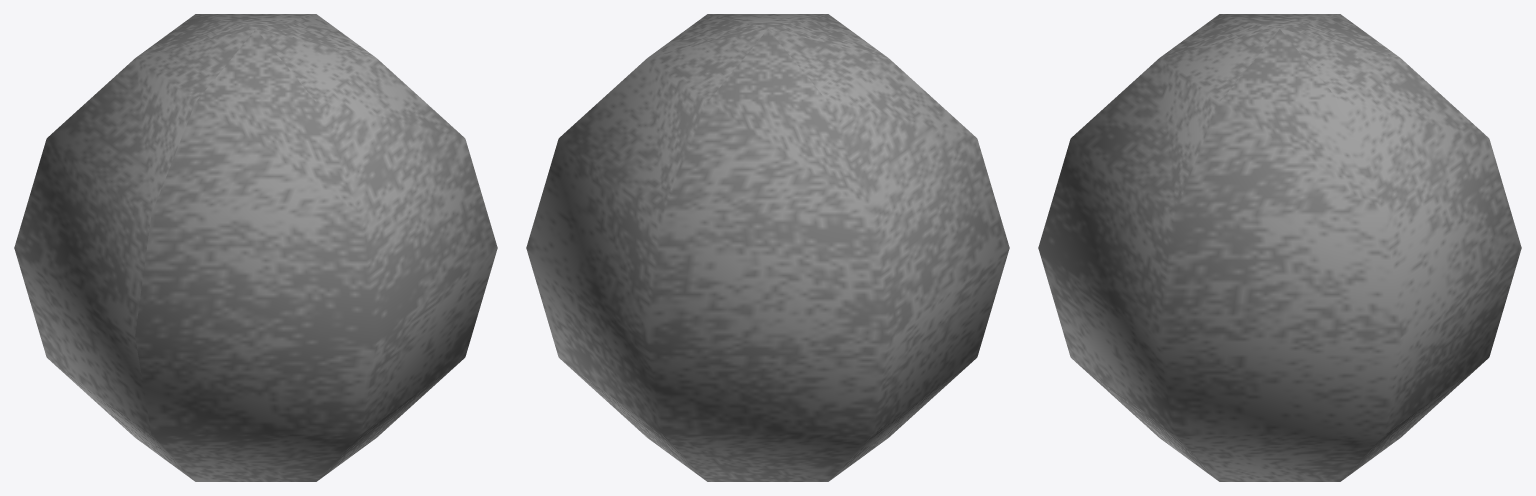
File: Pellet.fbx
3 views of the same model, side by side, from view 1: azimuth 30°, elevation 25°; view 2: azimuth 150°, elevation 25°; view 3: azimuth 270°, elevation 25° (orthographic).
Visible parts, largest first — view 1: Pellet; view 2: Pellet; view 3: Pellet.
Boxes of the visible parts, x1=… form: Pellet: x1=14, y1=14, x2=497, y2=481; Pellet: x1=526, y1=14, x2=1009, y2=481; Pellet: x1=1038, y1=14, x2=1521, y2=481.
Size of the model in its own units: 0.0183 by 0.0211 by 0.0211.
